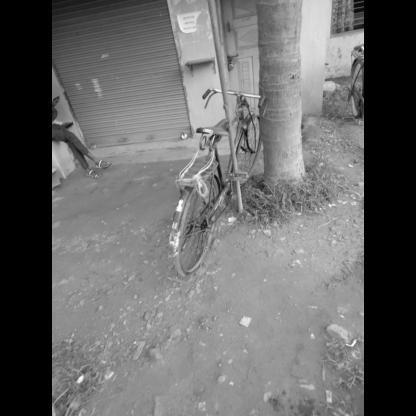Bicycle: (132, 73, 268, 286)
